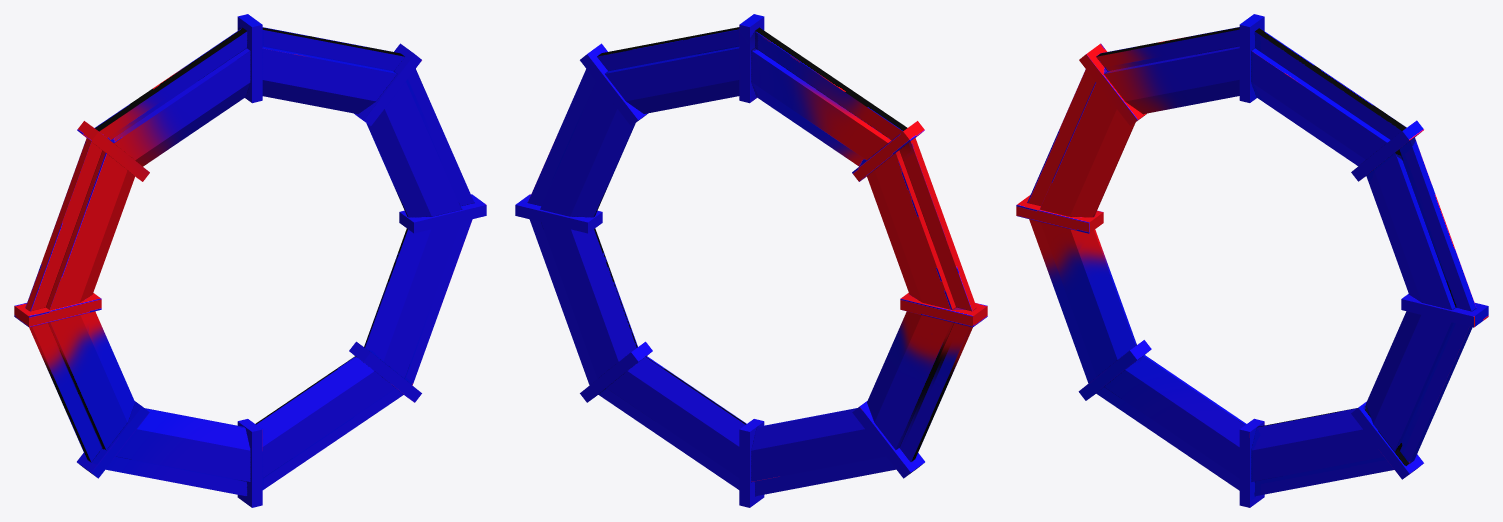
Rendered from straight_ring_2.obj.
3 renders of one model, left to right at view 1: azimuth 30°, elevation 25°; view 2: azimuth 150°, elevation 25°; view 3: azimuth 330°, elevation 25°, orthographic.
Parts seen in each view (by area): view 1: Ring_Straight_2_Cube.003; view 2: Ring_Straight_2_Cube.003; view 3: Ring_Straight_2_Cube.003.
Part boxes in pixels (left/top/right/bottom): Ring_Straight_2_Cube.003: left=14, top=14, right=486, bottom=507; Ring_Straight_2_Cube.003: left=515, top=14, right=987, bottom=507; Ring_Straight_2_Cube.003: left=1016, top=14, right=1488, bottom=507.
Size of the model in its own units: 21.45 by 21.53 by 1.19.
Materials: 1 (1 with a texture image).
